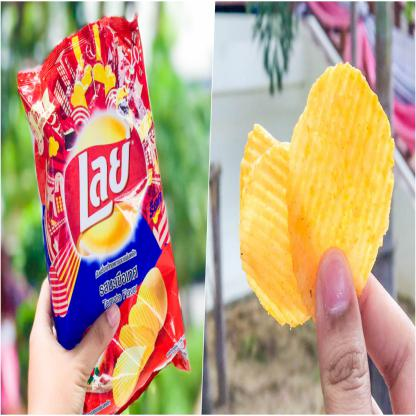potatochip: (17, 17, 192, 416)
